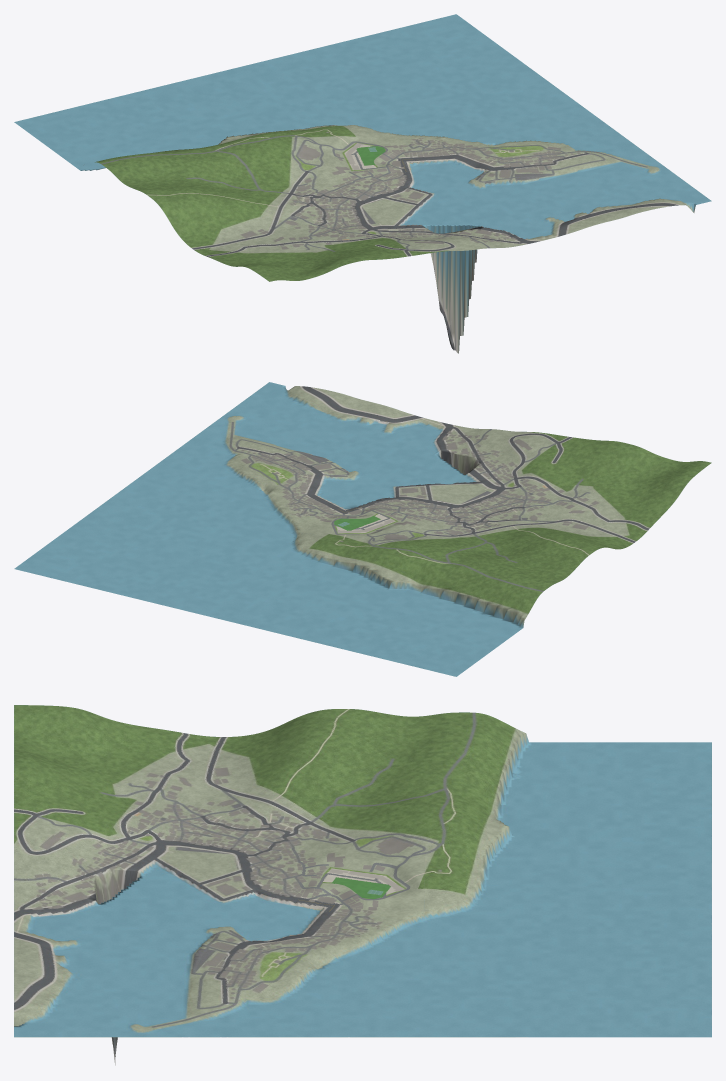
3 views of the same model, one above another, from view 1: azimuth 30°, elevation 25°; view 2: azimuth 150°, elevation 25°; view 3: azimuth 270°, elevation 25° (orthographic). The views are drawn at different scales.
Parts seen in each view (by area): view 1: ground-area, ground-school; view 2: ground-area, ground-school; view 3: ground-area, ground-school.
Part boxes in pixels (<box>): ground-area: <box>14,14,711,353</box>; ground-school: <box>305,132,423,183</box>; ground-area: <box>14,382,711,676</box>; ground-school: <box>303,503,421,541</box>; ground-area: <box>14,705,711,1065</box>; ground-school: <box>298,847,424,914</box>.
Size of the model in its own units: 992 by 331 by 992.
Materials: 2 (2 with a texture image).
